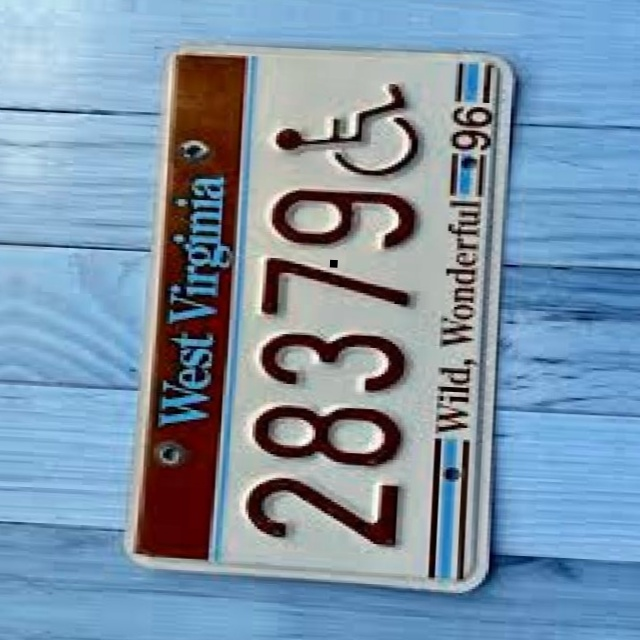ISA: (272, 76, 428, 177)
